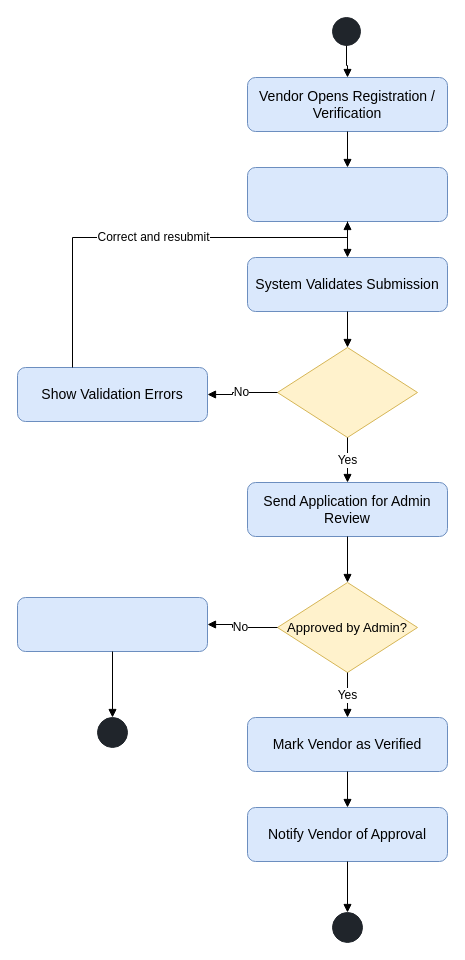
Some shapes in this 465 by 960 pixel diagram are drawn without their labels. The shapes that lost their labels are listed below. From the top down, each one's centre as x and y in pixels, then its label:
At point (347, 194): "Submit Business Details and Evidence".
At point (347, 392): "Details Complete and Valid?".
At point (112, 624): "Notify Vendor of Rejection".
